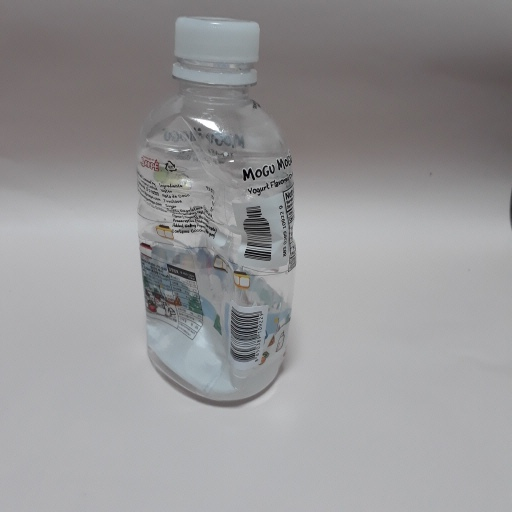Plastic_0: (134, 16, 300, 406)
